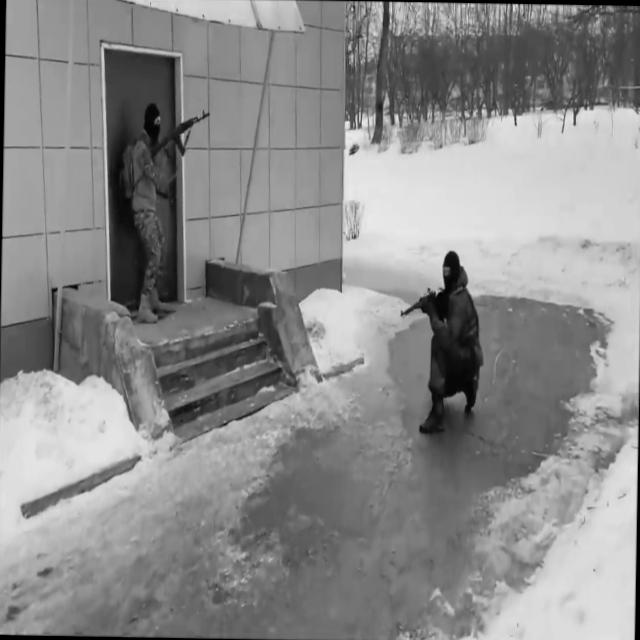gun: (148, 106, 210, 162), (400, 285, 446, 319)
person with a gun: (118, 102, 210, 325), (398, 249, 486, 434)
